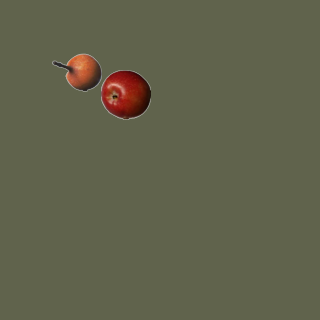Apple Braeburn: (100, 69, 150, 119)
Granadilla: (51, 47, 101, 97)
